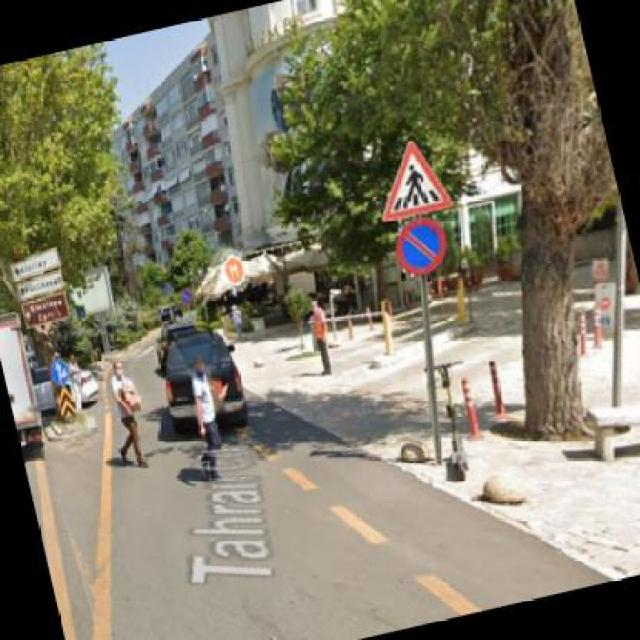yaya: (382, 141, 452, 221)
